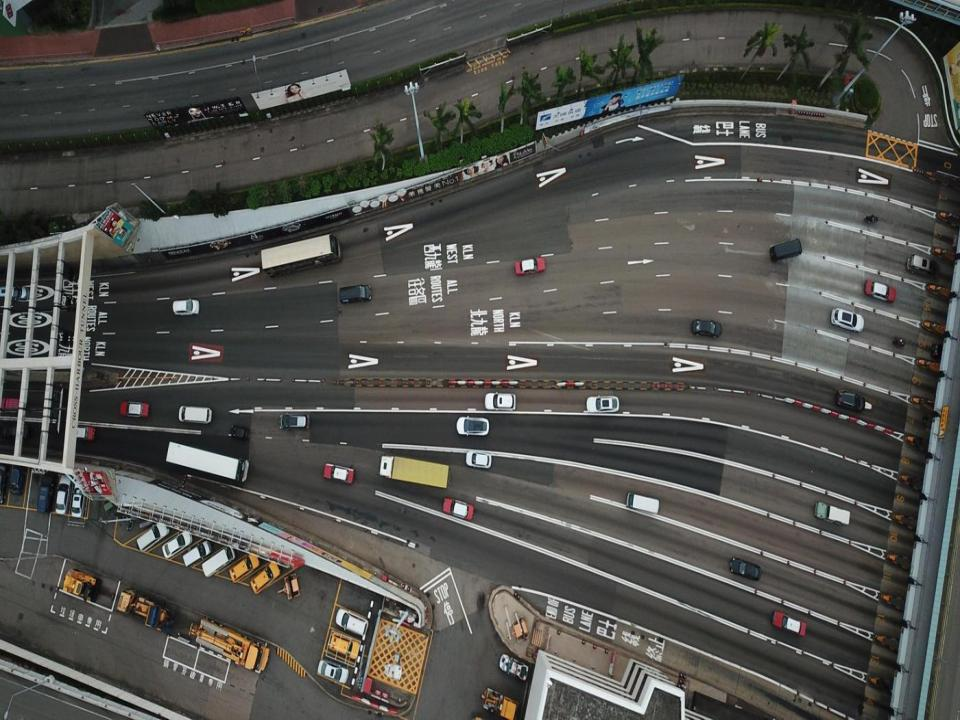bus: (260, 234, 342, 277), (165, 440, 249, 480)
car: (771, 609, 806, 635), (162, 529, 192, 558), (498, 653, 528, 681), (831, 307, 864, 332), (55, 472, 73, 514), (317, 659, 348, 683), (730, 556, 760, 580), (443, 496, 474, 519), (864, 280, 896, 302), (456, 416, 489, 436), (8, 463, 28, 495), (692, 318, 722, 338), (323, 464, 354, 483), (586, 395, 618, 413), (72, 479, 87, 516), (119, 400, 149, 417), (466, 450, 492, 468), (68, 426, 96, 440), (0, 465, 8, 504), (0, 397, 22, 411), (231, 425, 248, 439)
truck: (188, 618, 270, 673), (116, 588, 177, 632), (377, 453, 451, 487), (481, 687, 518, 719), (814, 502, 850, 526), (515, 257, 545, 275)
van: (201, 546, 236, 578), (250, 559, 281, 594), (229, 550, 260, 582), (136, 521, 169, 551), (335, 608, 368, 636), (37, 468, 57, 514), (328, 631, 360, 659), (908, 253, 940, 279), (182, 540, 212, 567), (626, 492, 659, 514), (770, 238, 802, 260), (340, 284, 373, 304), (178, 405, 212, 423), (837, 389, 864, 411), (485, 391, 516, 410), (279, 413, 309, 430), (930, 342, 956, 361), (0, 284, 28, 301), (1, 423, 29, 439), (173, 298, 199, 315)
